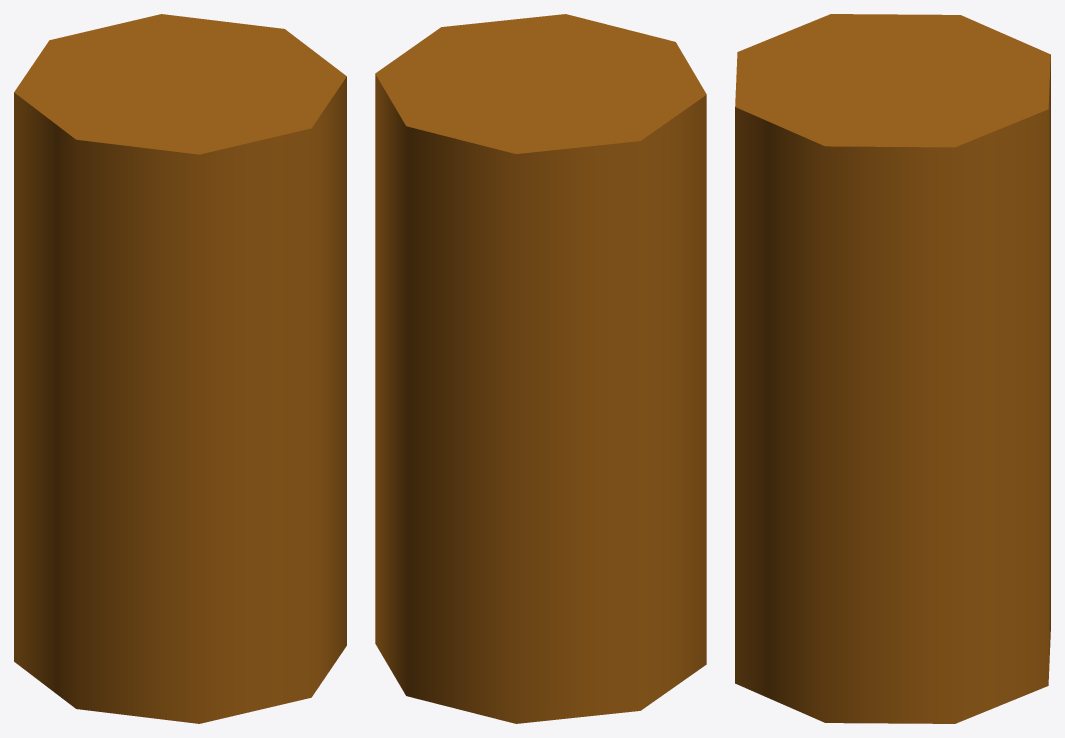
File: Pul_s.fbx
The picture shows the model from 3 angles, left to right: view 1: azimuth 30°, elevation 25°; view 2: azimuth 150°, elevation 25°; view 3: azimuth 270°, elevation 25°; orthographic projection.
Visible parts, largest first — view 1: Pul_s; view 2: Pul_s; view 3: Pul_s.
Boxes of the visible parts, <box> form: Pul_s: <box>14,14,346,723</box>; Pul_s: <box>375,14,706,723</box>; Pul_s: <box>735,14,1050,723</box>.
Size of the model in its own units: 14.89 by 30 by 14.89.
Materials: 1 (1 with a texture image).
